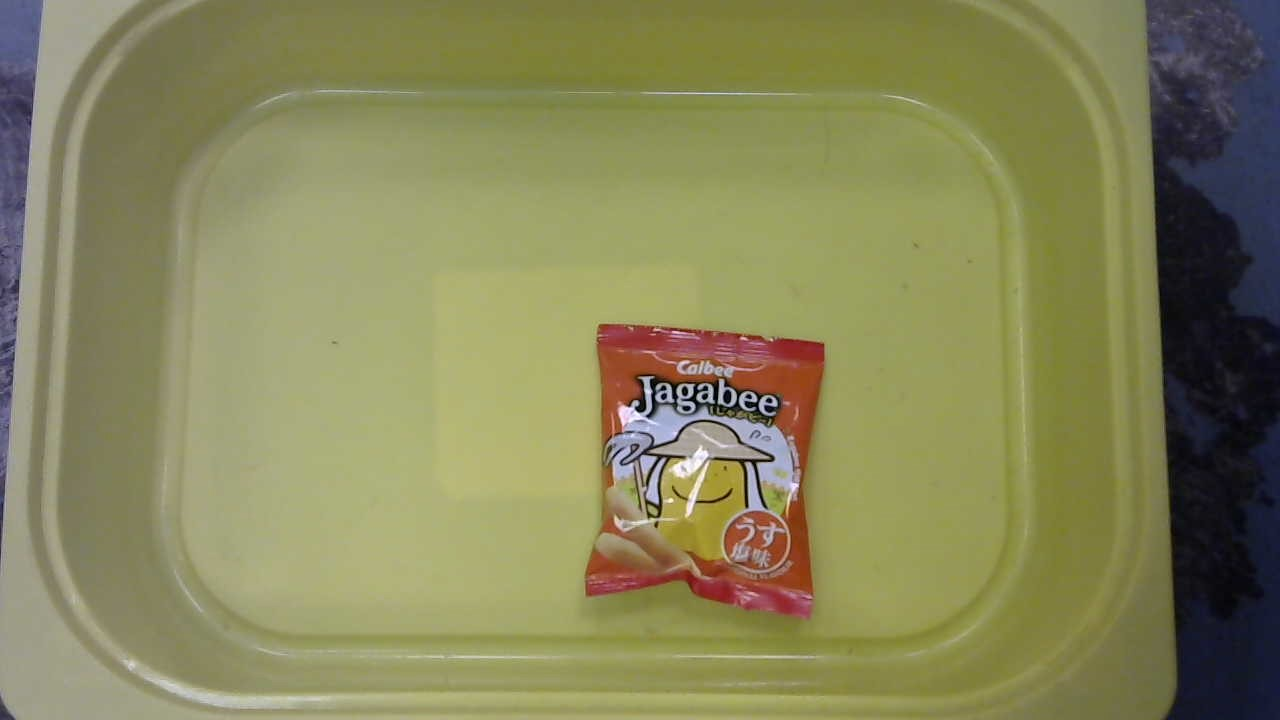JagabeeFarmer: (571, 311, 831, 633)
